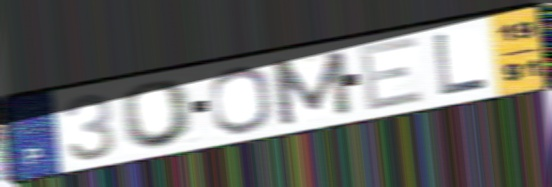3: (63, 91, 117, 162)
E: (356, 33, 427, 114)
L: (431, 30, 490, 98)
M: (267, 47, 356, 128)
O: (119, 77, 199, 152), (206, 64, 276, 136)
